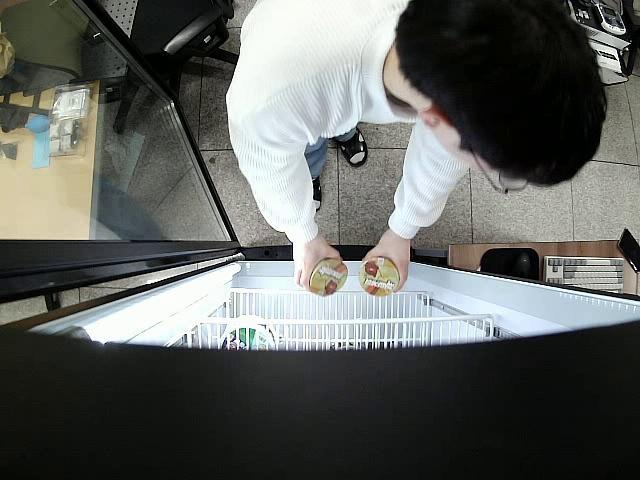04_chapagetti_S: (358, 258, 398, 297), (310, 256, 346, 298)
